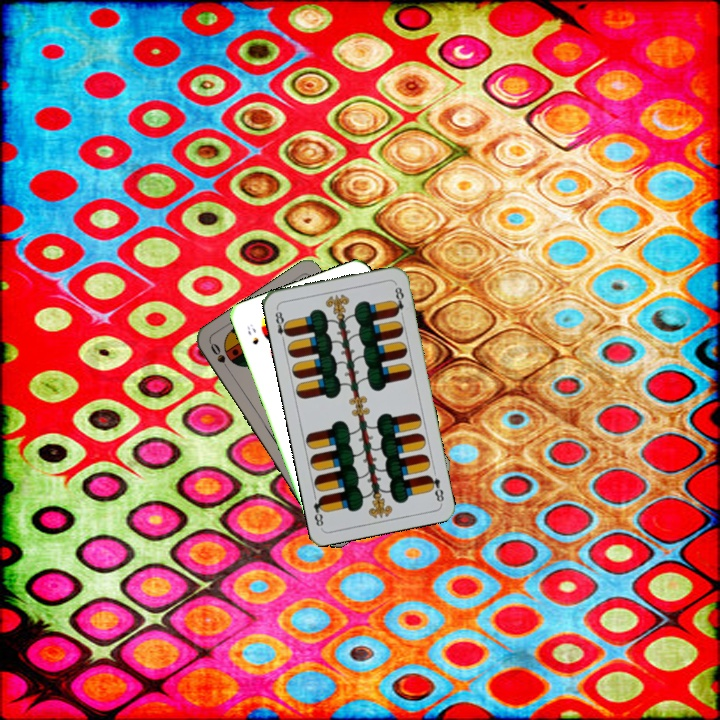E8: (271, 304, 293, 345), (424, 471, 446, 505)
S8: (243, 320, 261, 347)
SO: (206, 339, 233, 376)
